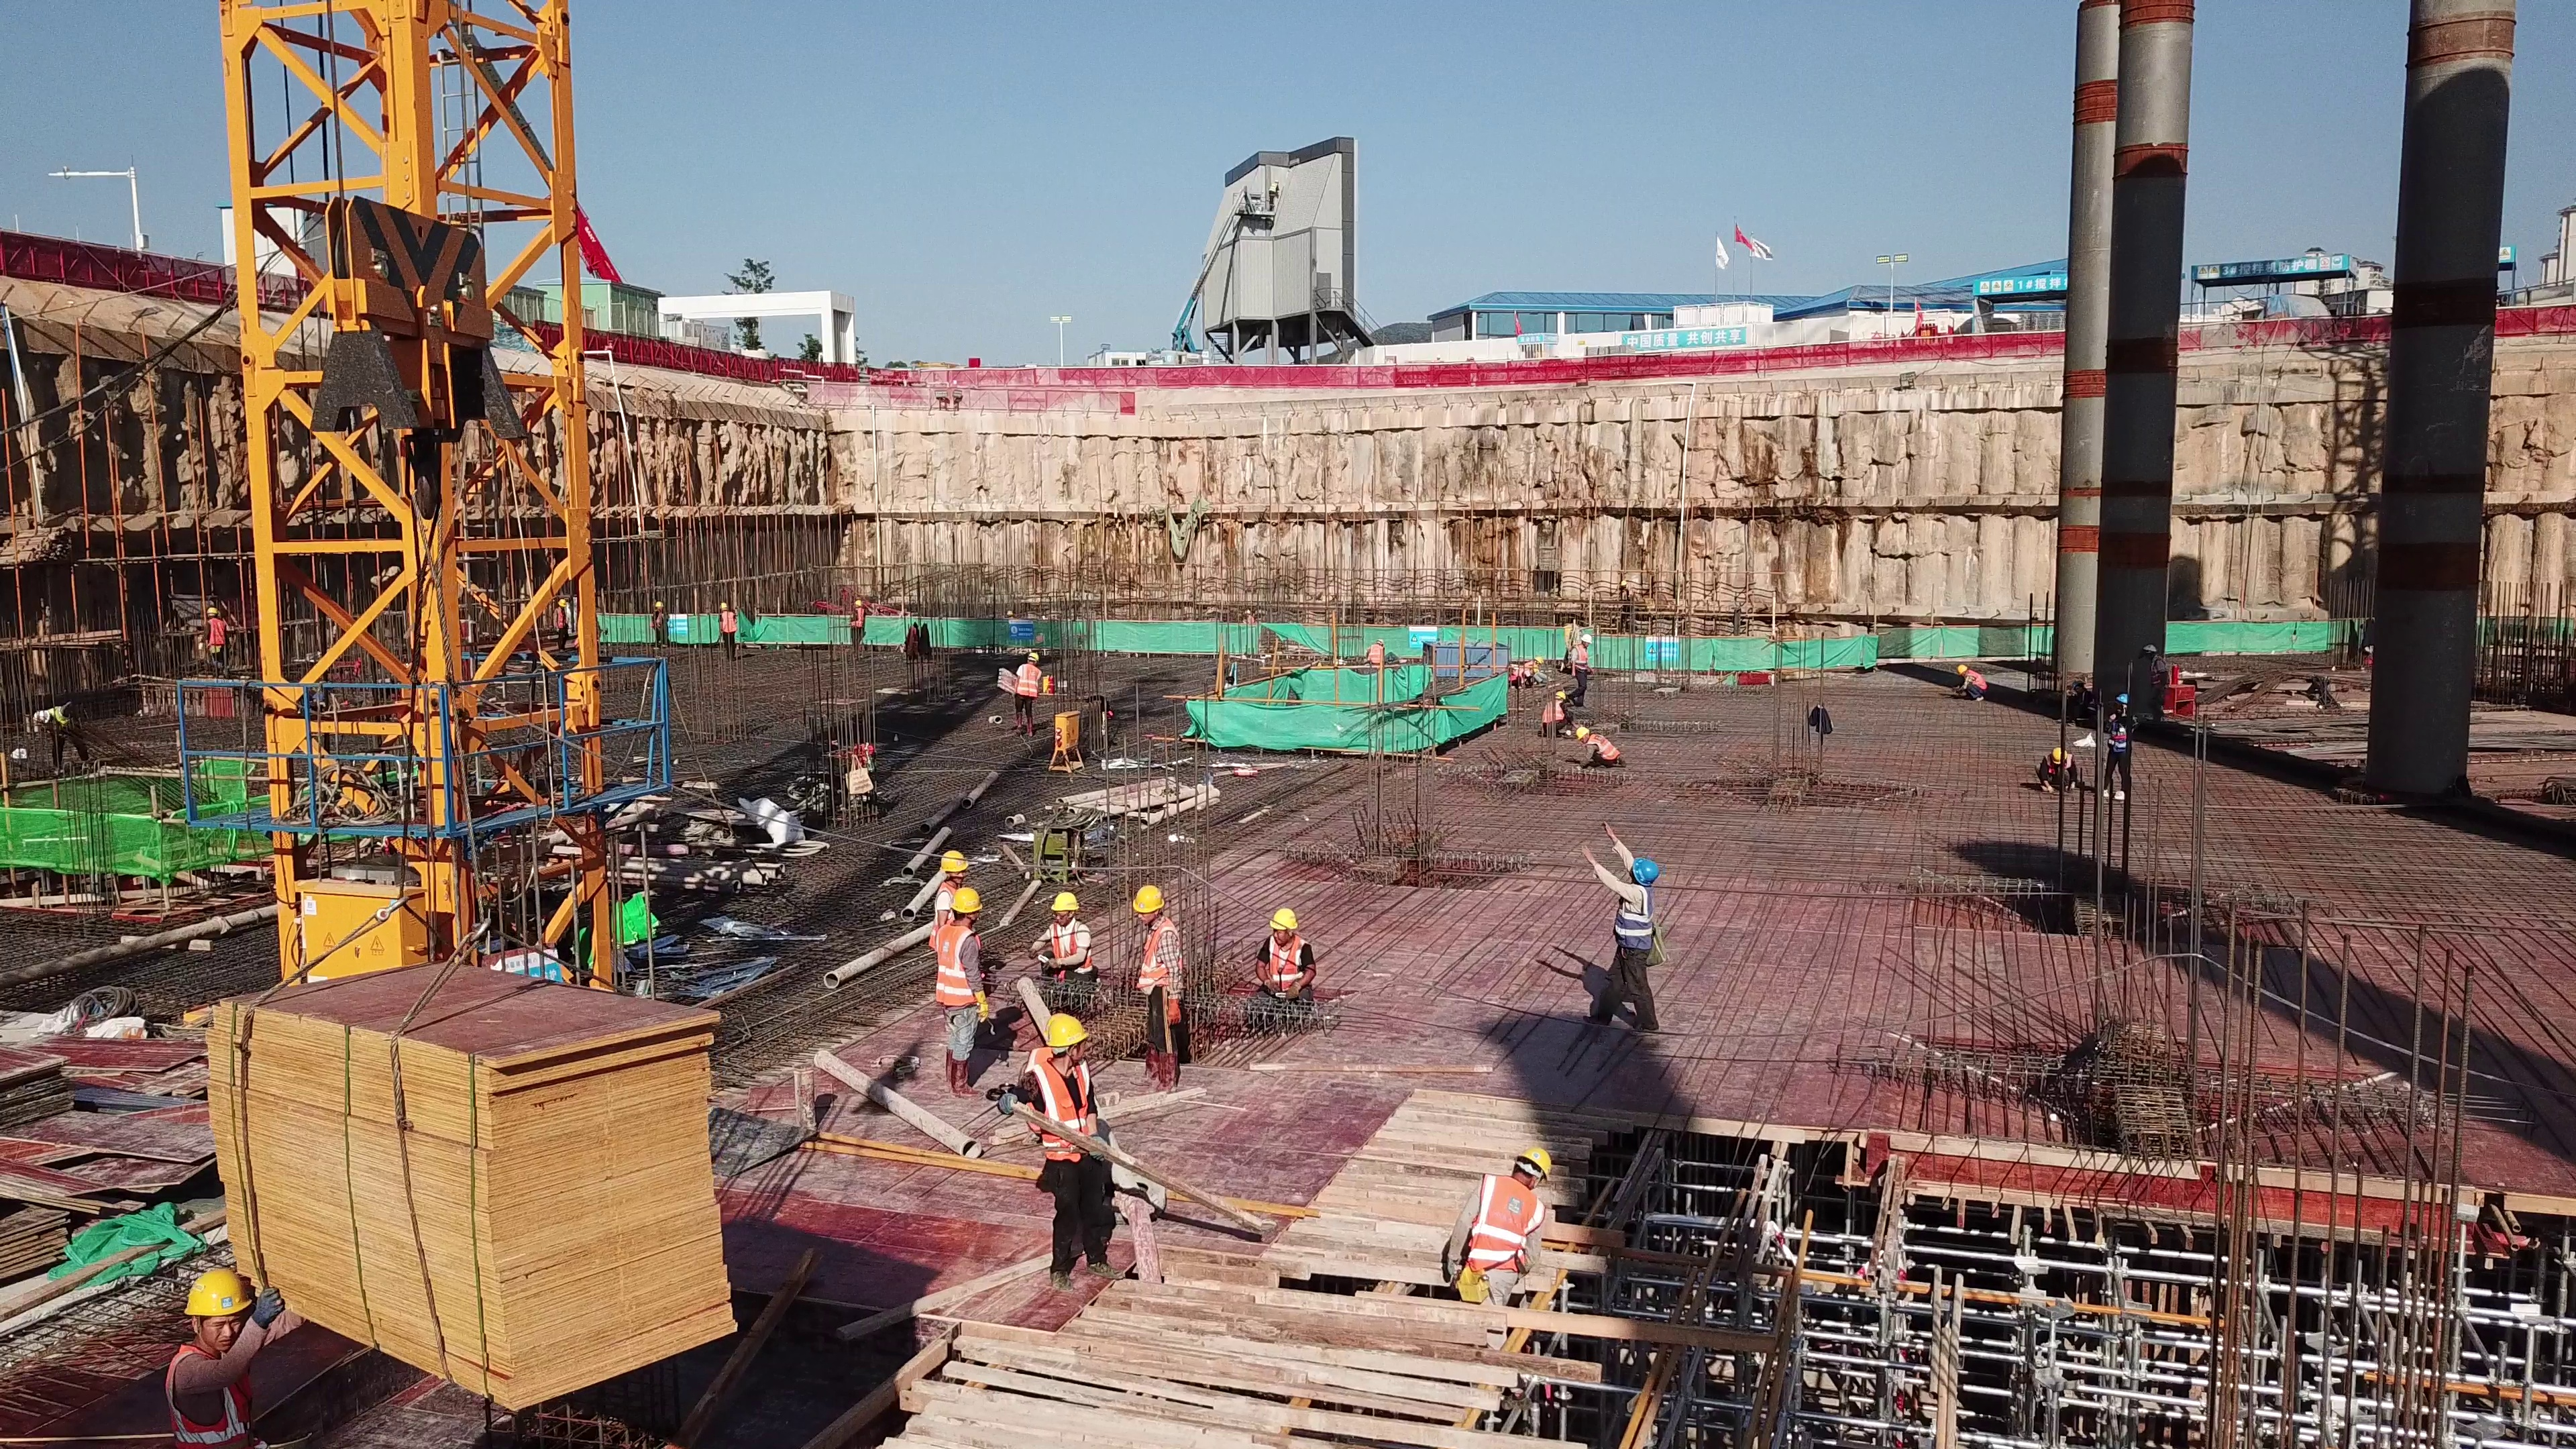board: (213, 990, 735, 1405), (24, 1016, 231, 1230)
brick: (1578, 341, 1635, 358)
ebox: (289, 865, 432, 1007), (1422, 639, 1509, 682), (1051, 710, 1081, 775)
fence: (1052, 362, 1540, 407), (46, 229, 222, 316)
helmet: (190, 1281, 257, 1323), (1518, 1146, 1556, 1188), (947, 879, 984, 917), (1045, 1014, 1086, 1045), (1264, 909, 1299, 934), (1042, 891, 1083, 914), (1633, 853, 1662, 879), (1132, 886, 1171, 904), (941, 847, 967, 867), (1951, 659, 1969, 676), (2050, 747, 2067, 766), (2112, 691, 2133, 704), (36, 709, 49, 724), (1555, 688, 1568, 700), (1580, 633, 1591, 648), (1026, 653, 1042, 661), (205, 606, 221, 616), (1575, 727, 1589, 736), (556, 598, 567, 608), (1533, 656, 1545, 665), (653, 600, 663, 608), (719, 601, 729, 610), (852, 598, 862, 606)
hook: (318, 202, 517, 514)
person: (1013, 1013, 1115, 1261), (1578, 820, 1678, 1055), (1439, 1141, 1555, 1303), (164, 1259, 264, 1449), (1116, 882, 1205, 1089), (1031, 866, 1115, 1014), (943, 882, 1002, 1089), (1245, 898, 1325, 1007), (2092, 683, 2151, 817), (30, 701, 105, 783), (1003, 651, 1049, 736), (1571, 722, 1631, 777), (2037, 741, 2083, 799), (202, 598, 233, 677), (1567, 630, 1599, 706), (1950, 657, 1992, 708), (841, 590, 868, 663), (933, 835, 973, 885), (712, 601, 739, 660), (1616, 573, 1644, 627), (1540, 689, 1568, 741), (1507, 655, 1545, 692), (650, 598, 675, 651), (550, 596, 568, 653)
slogan: (2192, 250, 2353, 277), (1628, 329, 1748, 352), (1968, 269, 2074, 290)
vest: (166, 1357, 238, 1449), (1471, 1175, 1542, 1269), (1035, 1051, 1101, 1145), (1610, 878, 1660, 953), (1142, 926, 1189, 1000), (942, 918, 972, 1022), (1269, 934, 1306, 988), (1046, 928, 1089, 967), (2108, 718, 2133, 757), (1587, 732, 1619, 761), (1018, 664, 1043, 698), (1567, 645, 1591, 676), (1968, 671, 1989, 696), (208, 617, 226, 645), (51, 704, 70, 731), (1543, 704, 1566, 721), (722, 610, 737, 633), (652, 610, 666, 629), (553, 607, 566, 629), (852, 610, 865, 630)
wood: (920, 1284, 1472, 1449)
